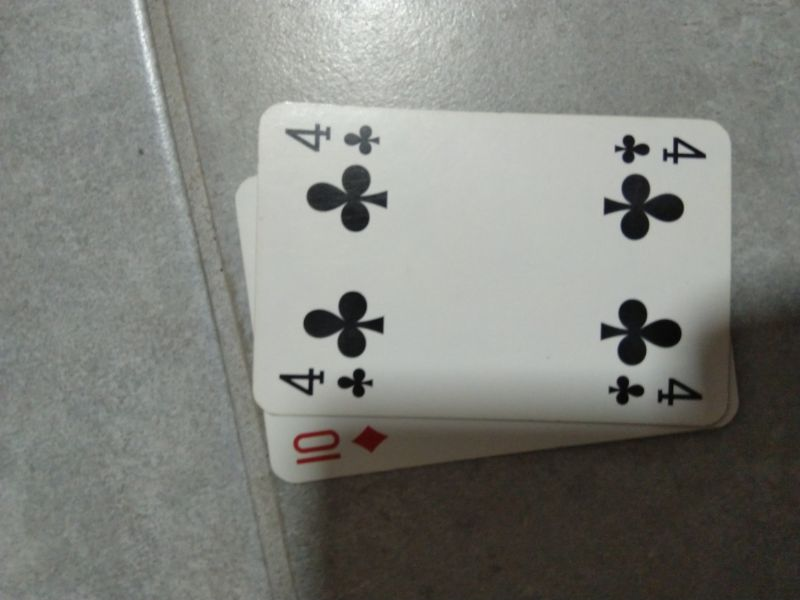4c: (277, 110, 388, 163), (599, 369, 716, 416), (274, 358, 383, 406), (606, 128, 712, 174)
Td: (285, 418, 397, 470)
